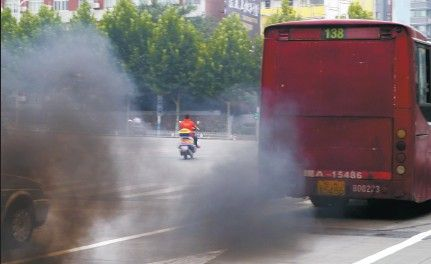smoke: (1, 29, 135, 264), (175, 148, 307, 257)
